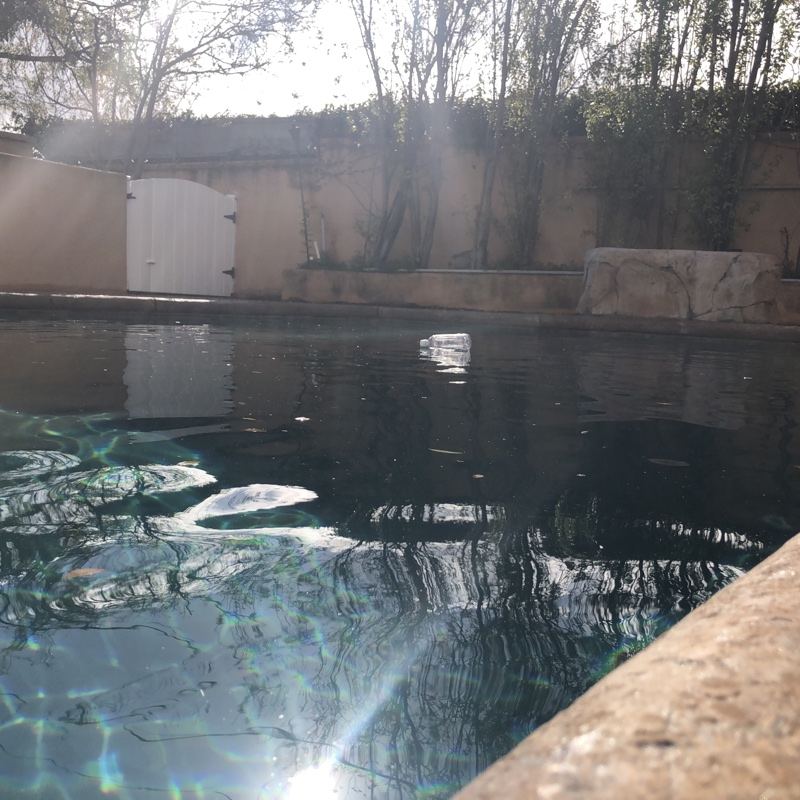Plastic Bottle: (421, 335, 470, 350)
